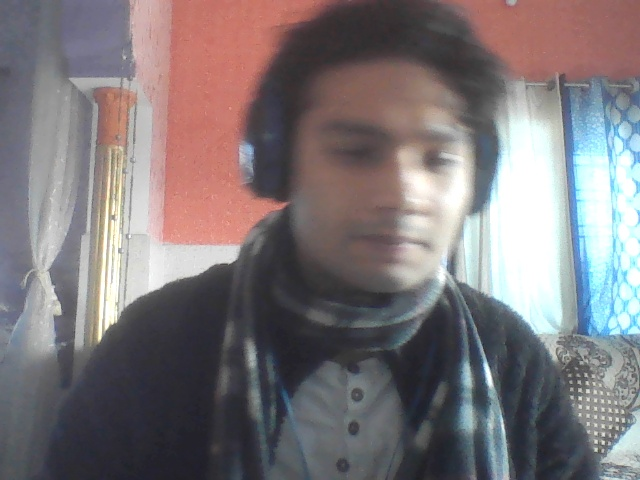real: (270, 0, 493, 316)
